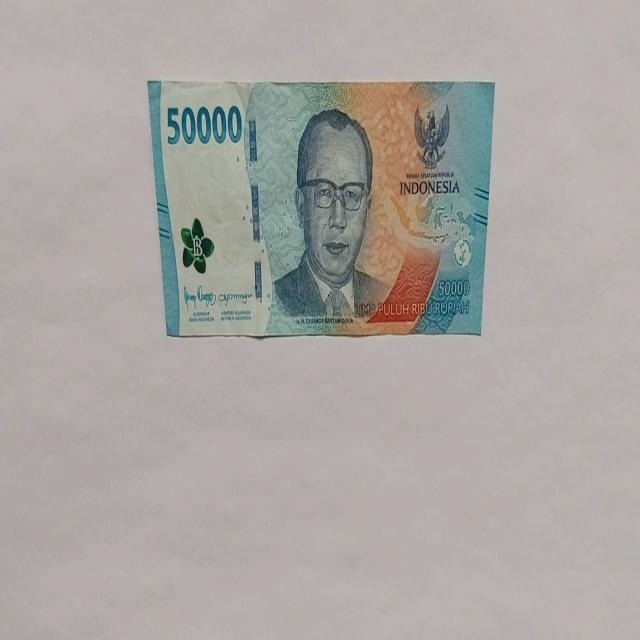lima puluh ribu rupiah: (146, 78, 494, 340), (269, 106, 392, 326)
